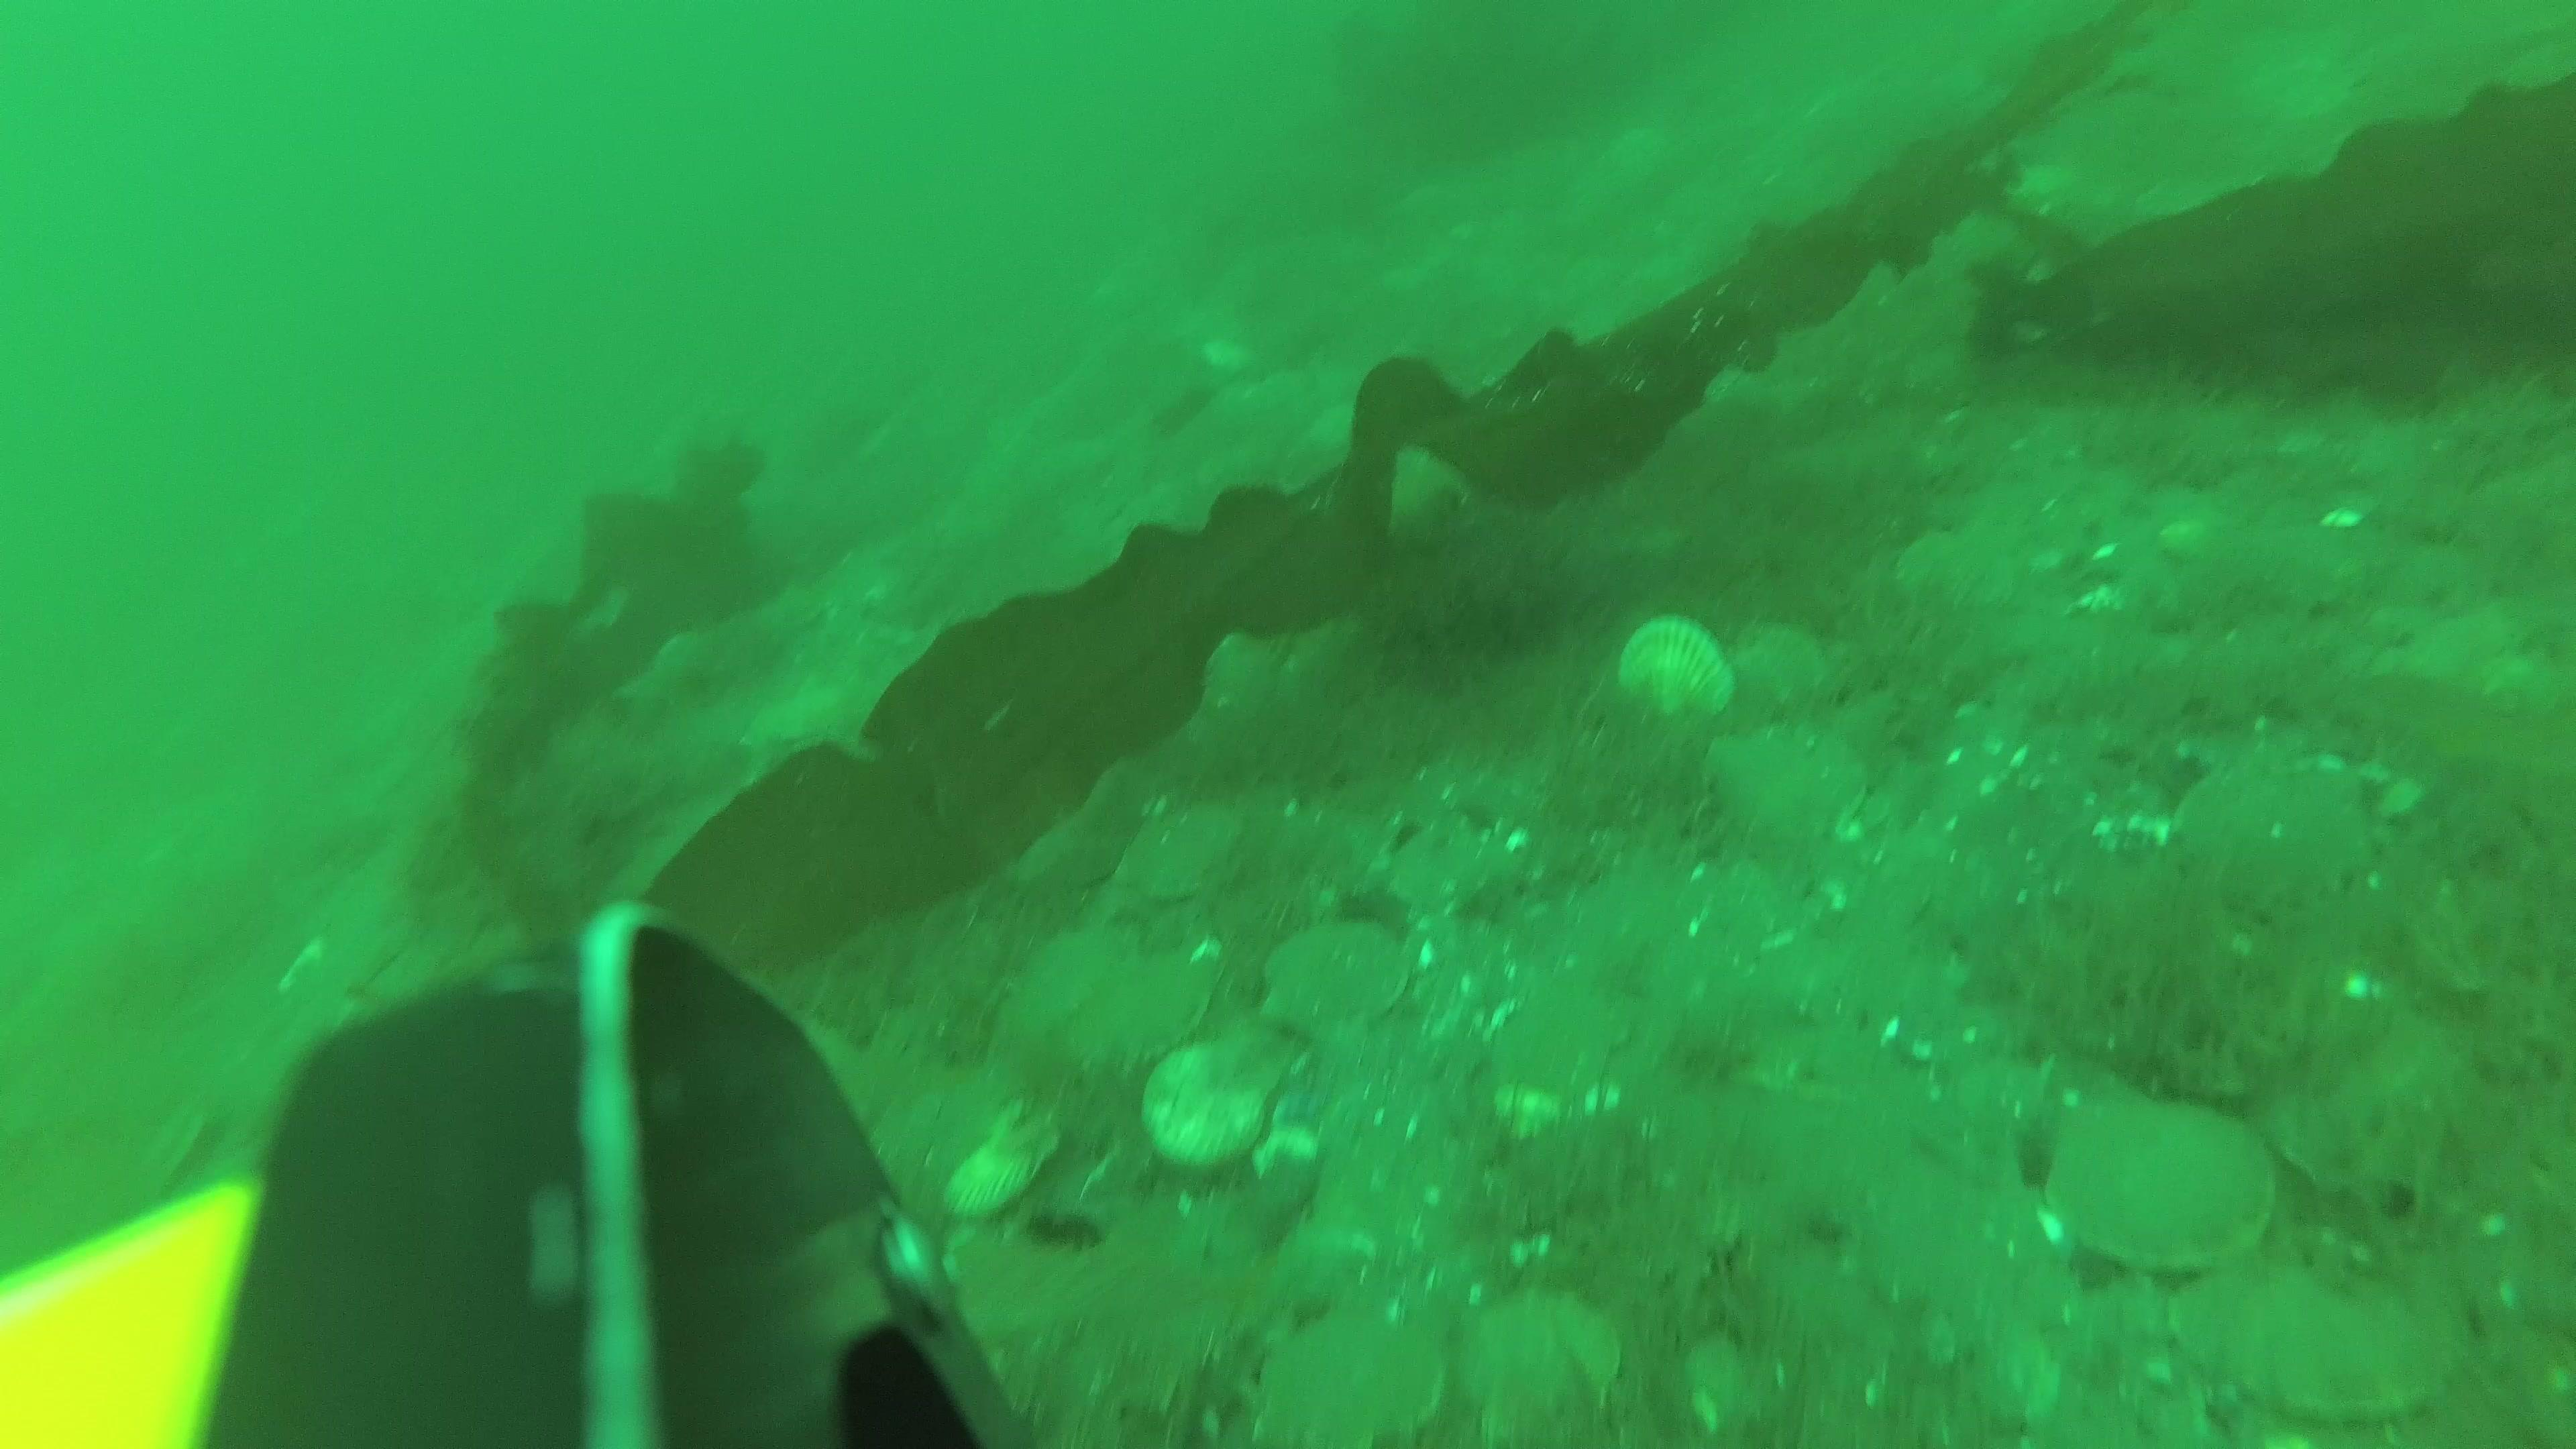scallop: (2167, 1238, 2456, 1419), (2045, 1086, 2263, 1279), (2180, 761, 2371, 931), (1468, 1272, 1626, 1449), (1263, 1297, 1435, 1449), (1716, 727, 1865, 865), (1258, 916, 1407, 1051), (1146, 1030, 1277, 1175), (1000, 922, 1143, 1051), (1065, 959, 1219, 1069), (945, 1113, 1054, 1237), (1385, 817, 1507, 927), (1716, 619, 1821, 738), (1619, 619, 1732, 724), (1898, 531, 2019, 619), (1127, 809, 1238, 899)
